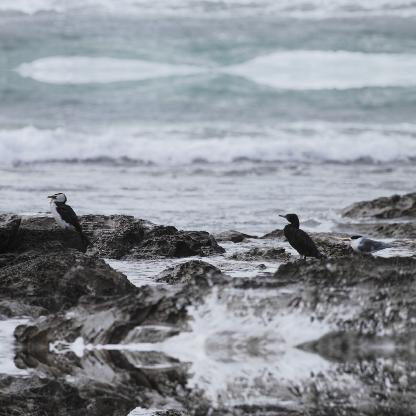Bird: (46, 190, 92, 250), (283, 214, 331, 260)
